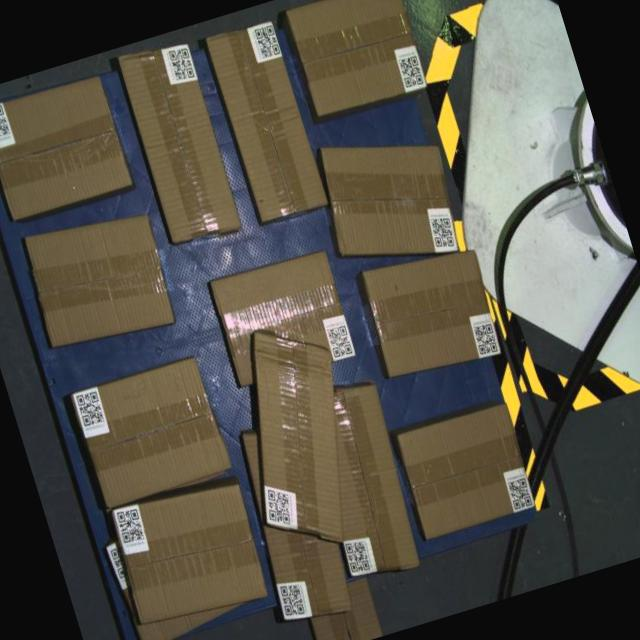box: (210, 310, 386, 562), (298, 377, 430, 586), (309, 114, 470, 285), (105, 471, 272, 635), (116, 35, 244, 248), (18, 200, 181, 359), (205, 17, 328, 224), (70, 354, 232, 508), (358, 238, 506, 386), (208, 246, 357, 389), (393, 400, 538, 540), (0, 71, 132, 220), (285, 0, 428, 119)
